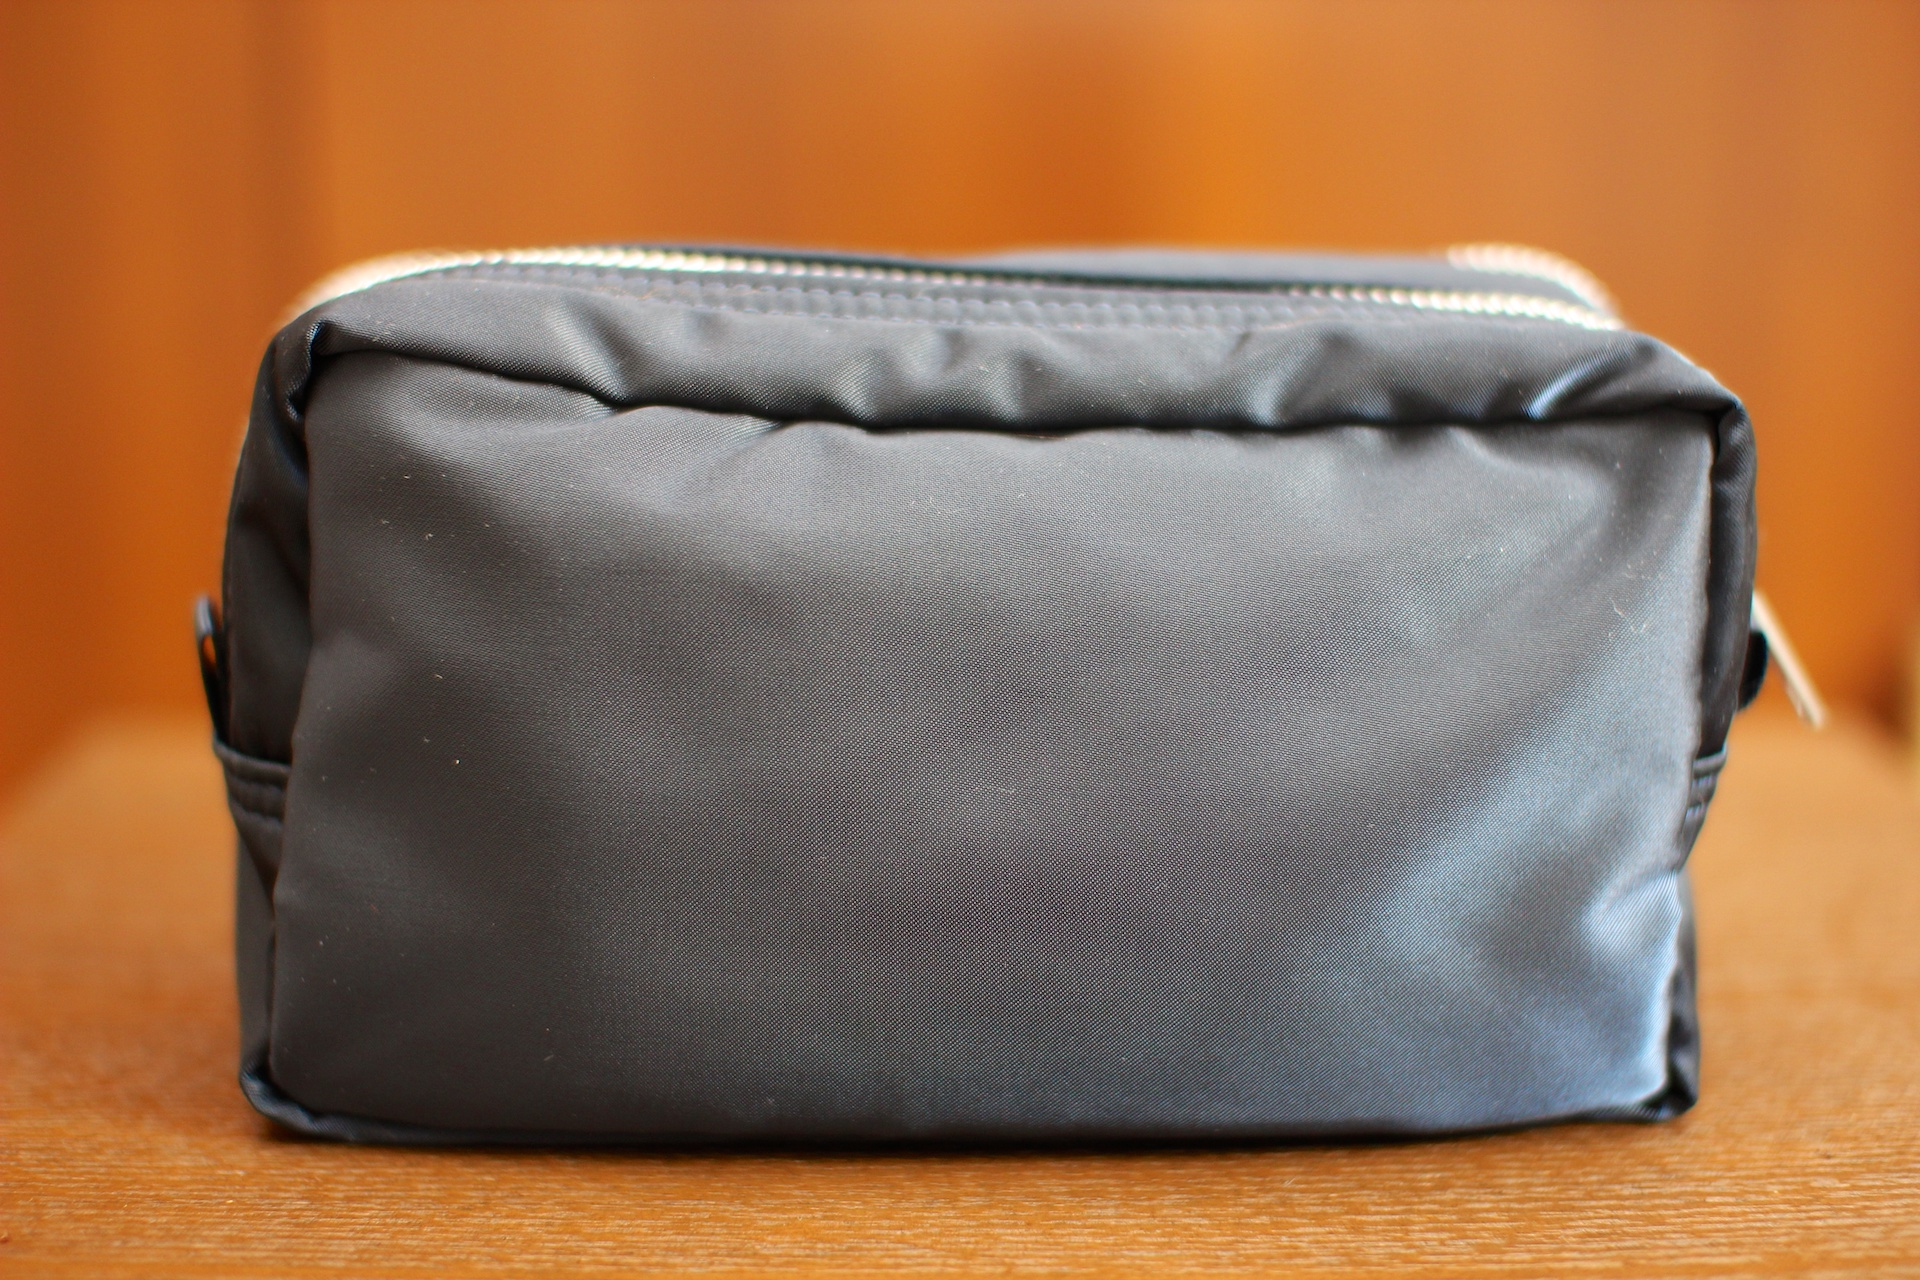monedero: (181, 234, 1770, 1164)
